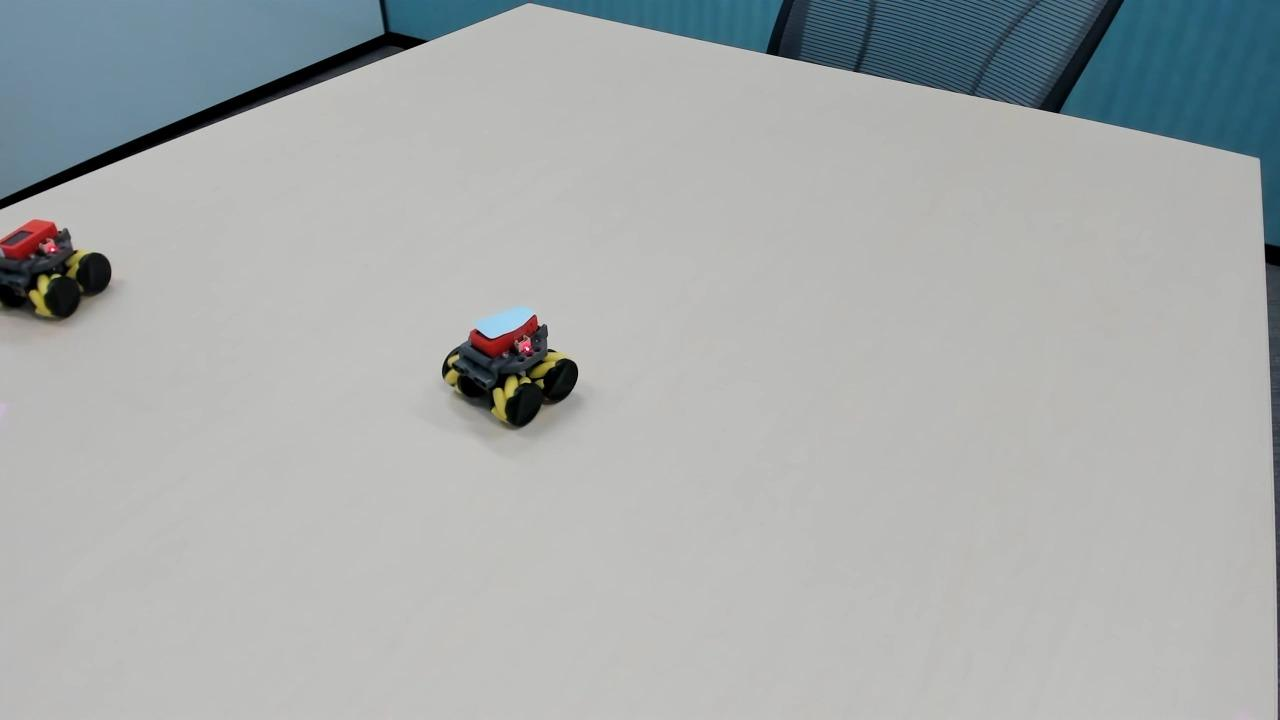B-Robot: (441, 300, 614, 450)
R-Robot: (0, 206, 109, 341)
